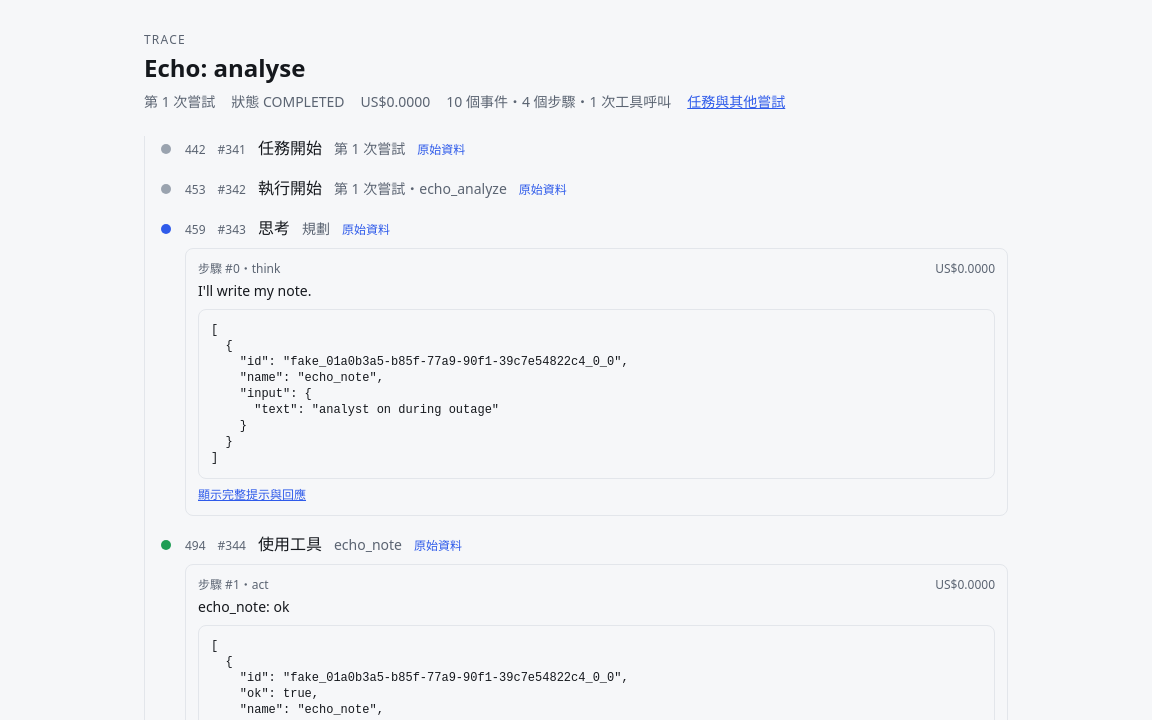
it: view › loads a step's full prompt and response on demand
The width and height of the screenshot is (1152, 720).
Step 1. Click the button "顯示完整提示與回應" → (252, 495), box x1=198 y1=487 x2=306 y2=503
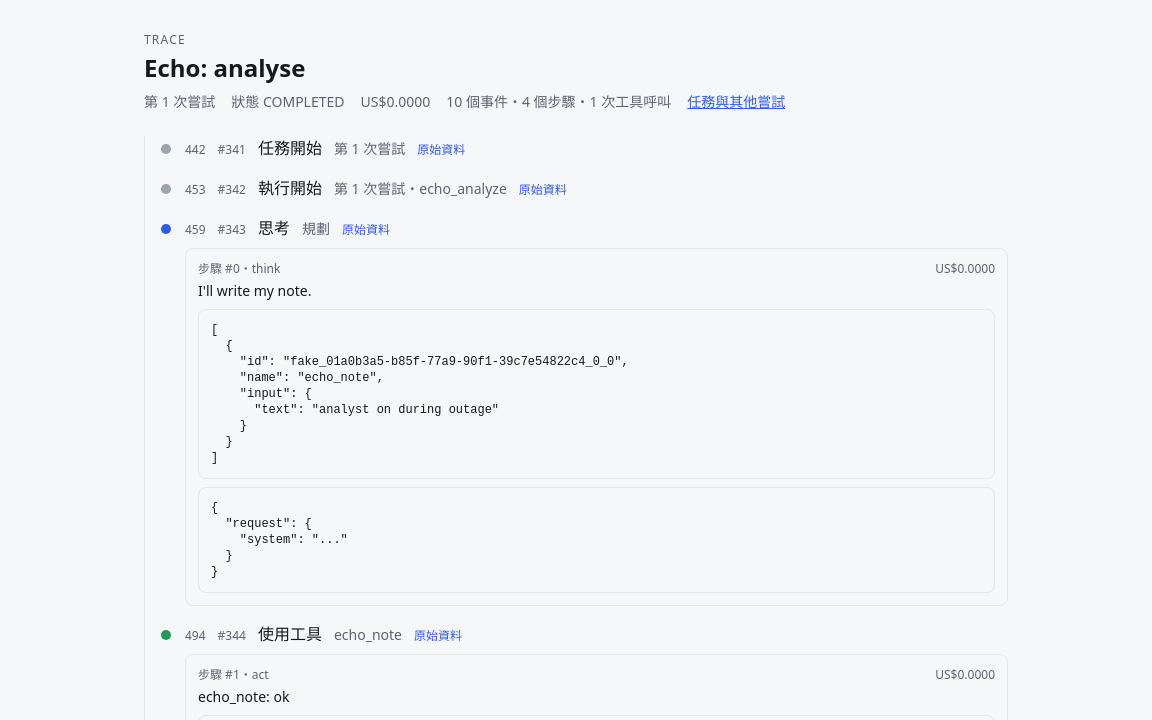
Now the text "{ \"request\": { \"system\": \"...\" } }" is shown, box x1=198 y1=487 x2=995 y2=593
